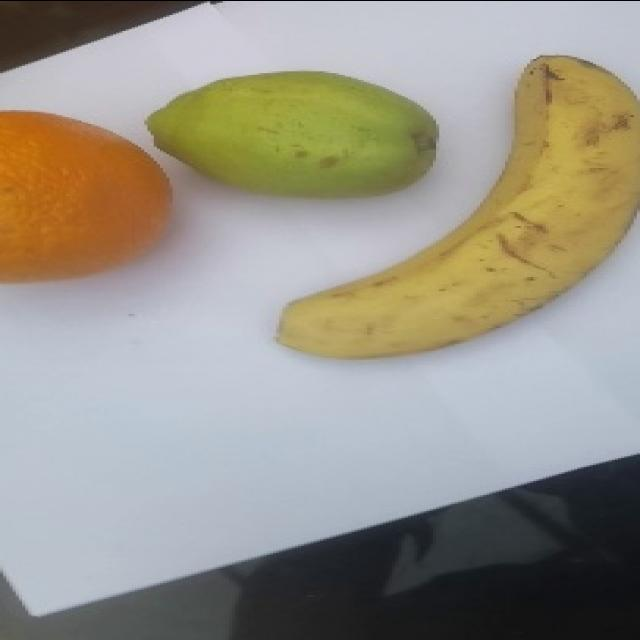Banana: (274, 53, 639, 360)
Orange: (0, 108, 172, 283)
